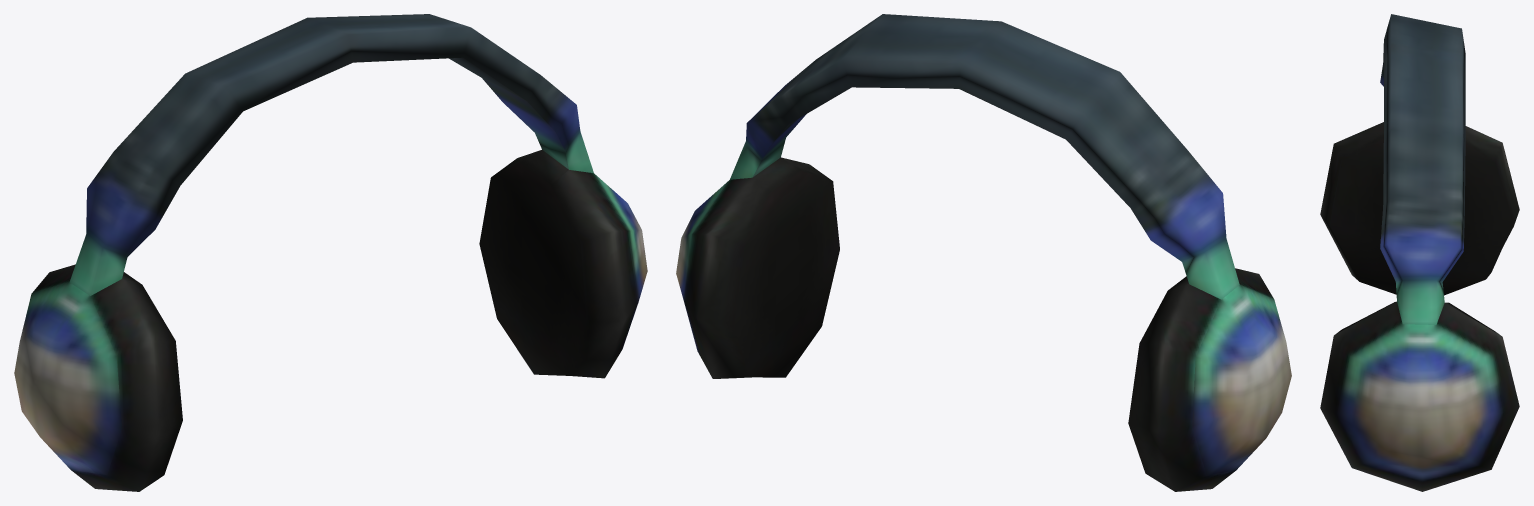
The model's file is headphone1.glb.
3 renders of one model, left to right at view 1: azimuth 30°, elevation 25°; view 2: azimuth 150°, elevation 25°; view 3: azimuth 270°, elevation 25°, orthographic. The views are drawn at different scales.
Parts seen in each view (by area): view 1: headphone1; view 2: headphone1; view 3: headphone1.
Part boxes in pixels (box(x1,y1,x2,y2)): headphone1: box(14, 14, 647, 491); headphone1: box(676, 14, 1291, 491); headphone1: box(1320, 14, 1519, 491).
Bounding box in the file's own units: 0.4666 × 0.3066 × 0.159.
Materials: 1 (1 with a texture image).
